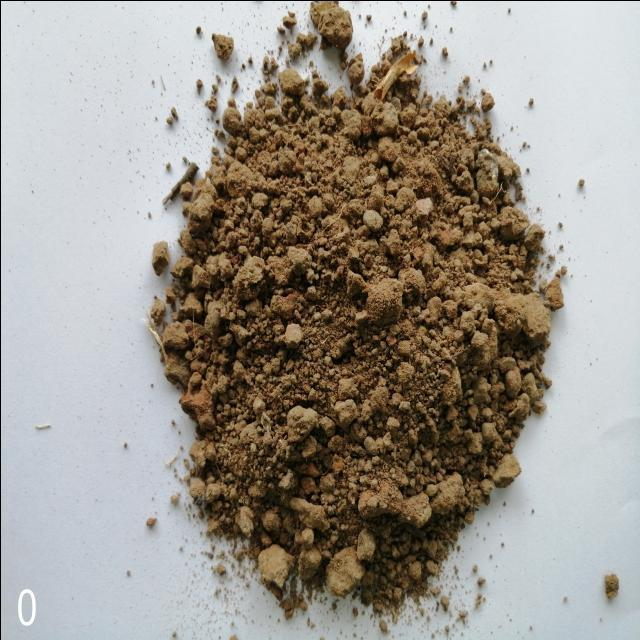soil: (214, 140, 490, 512)
